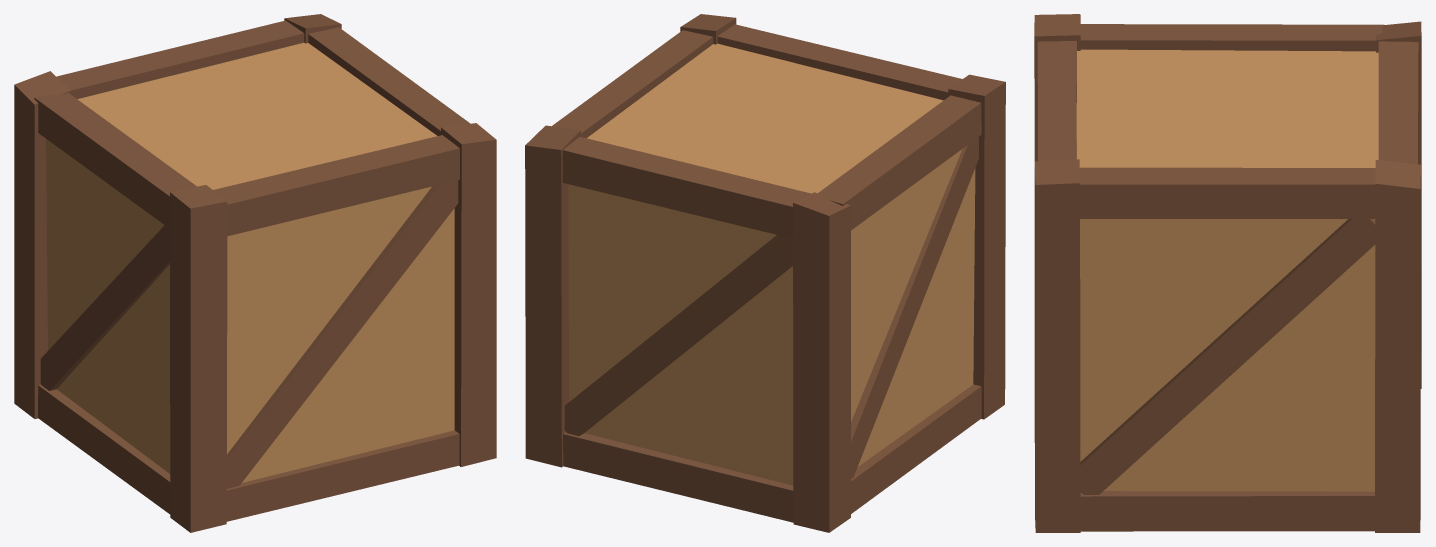
The model's file is crate.fbx.
3 renders of one model, left to right at view 1: azimuth 30°, elevation 25°; view 2: azimuth 150°, elevation 25°; view 3: azimuth 270°, elevation 25°, orthographic. The views are drawn at different scales.
Parts seen in each view (by area): view 1: crate; view 2: crate; view 3: crate.
Part boxes in pixels (x1,y1,x2,y2): crate: (14, 14, 496, 532); crate: (525, 14, 1005, 532); crate: (1034, 14, 1421, 532).
Bounding box in the file's own units: 0.8026 × 0.8133 × 0.8022.
